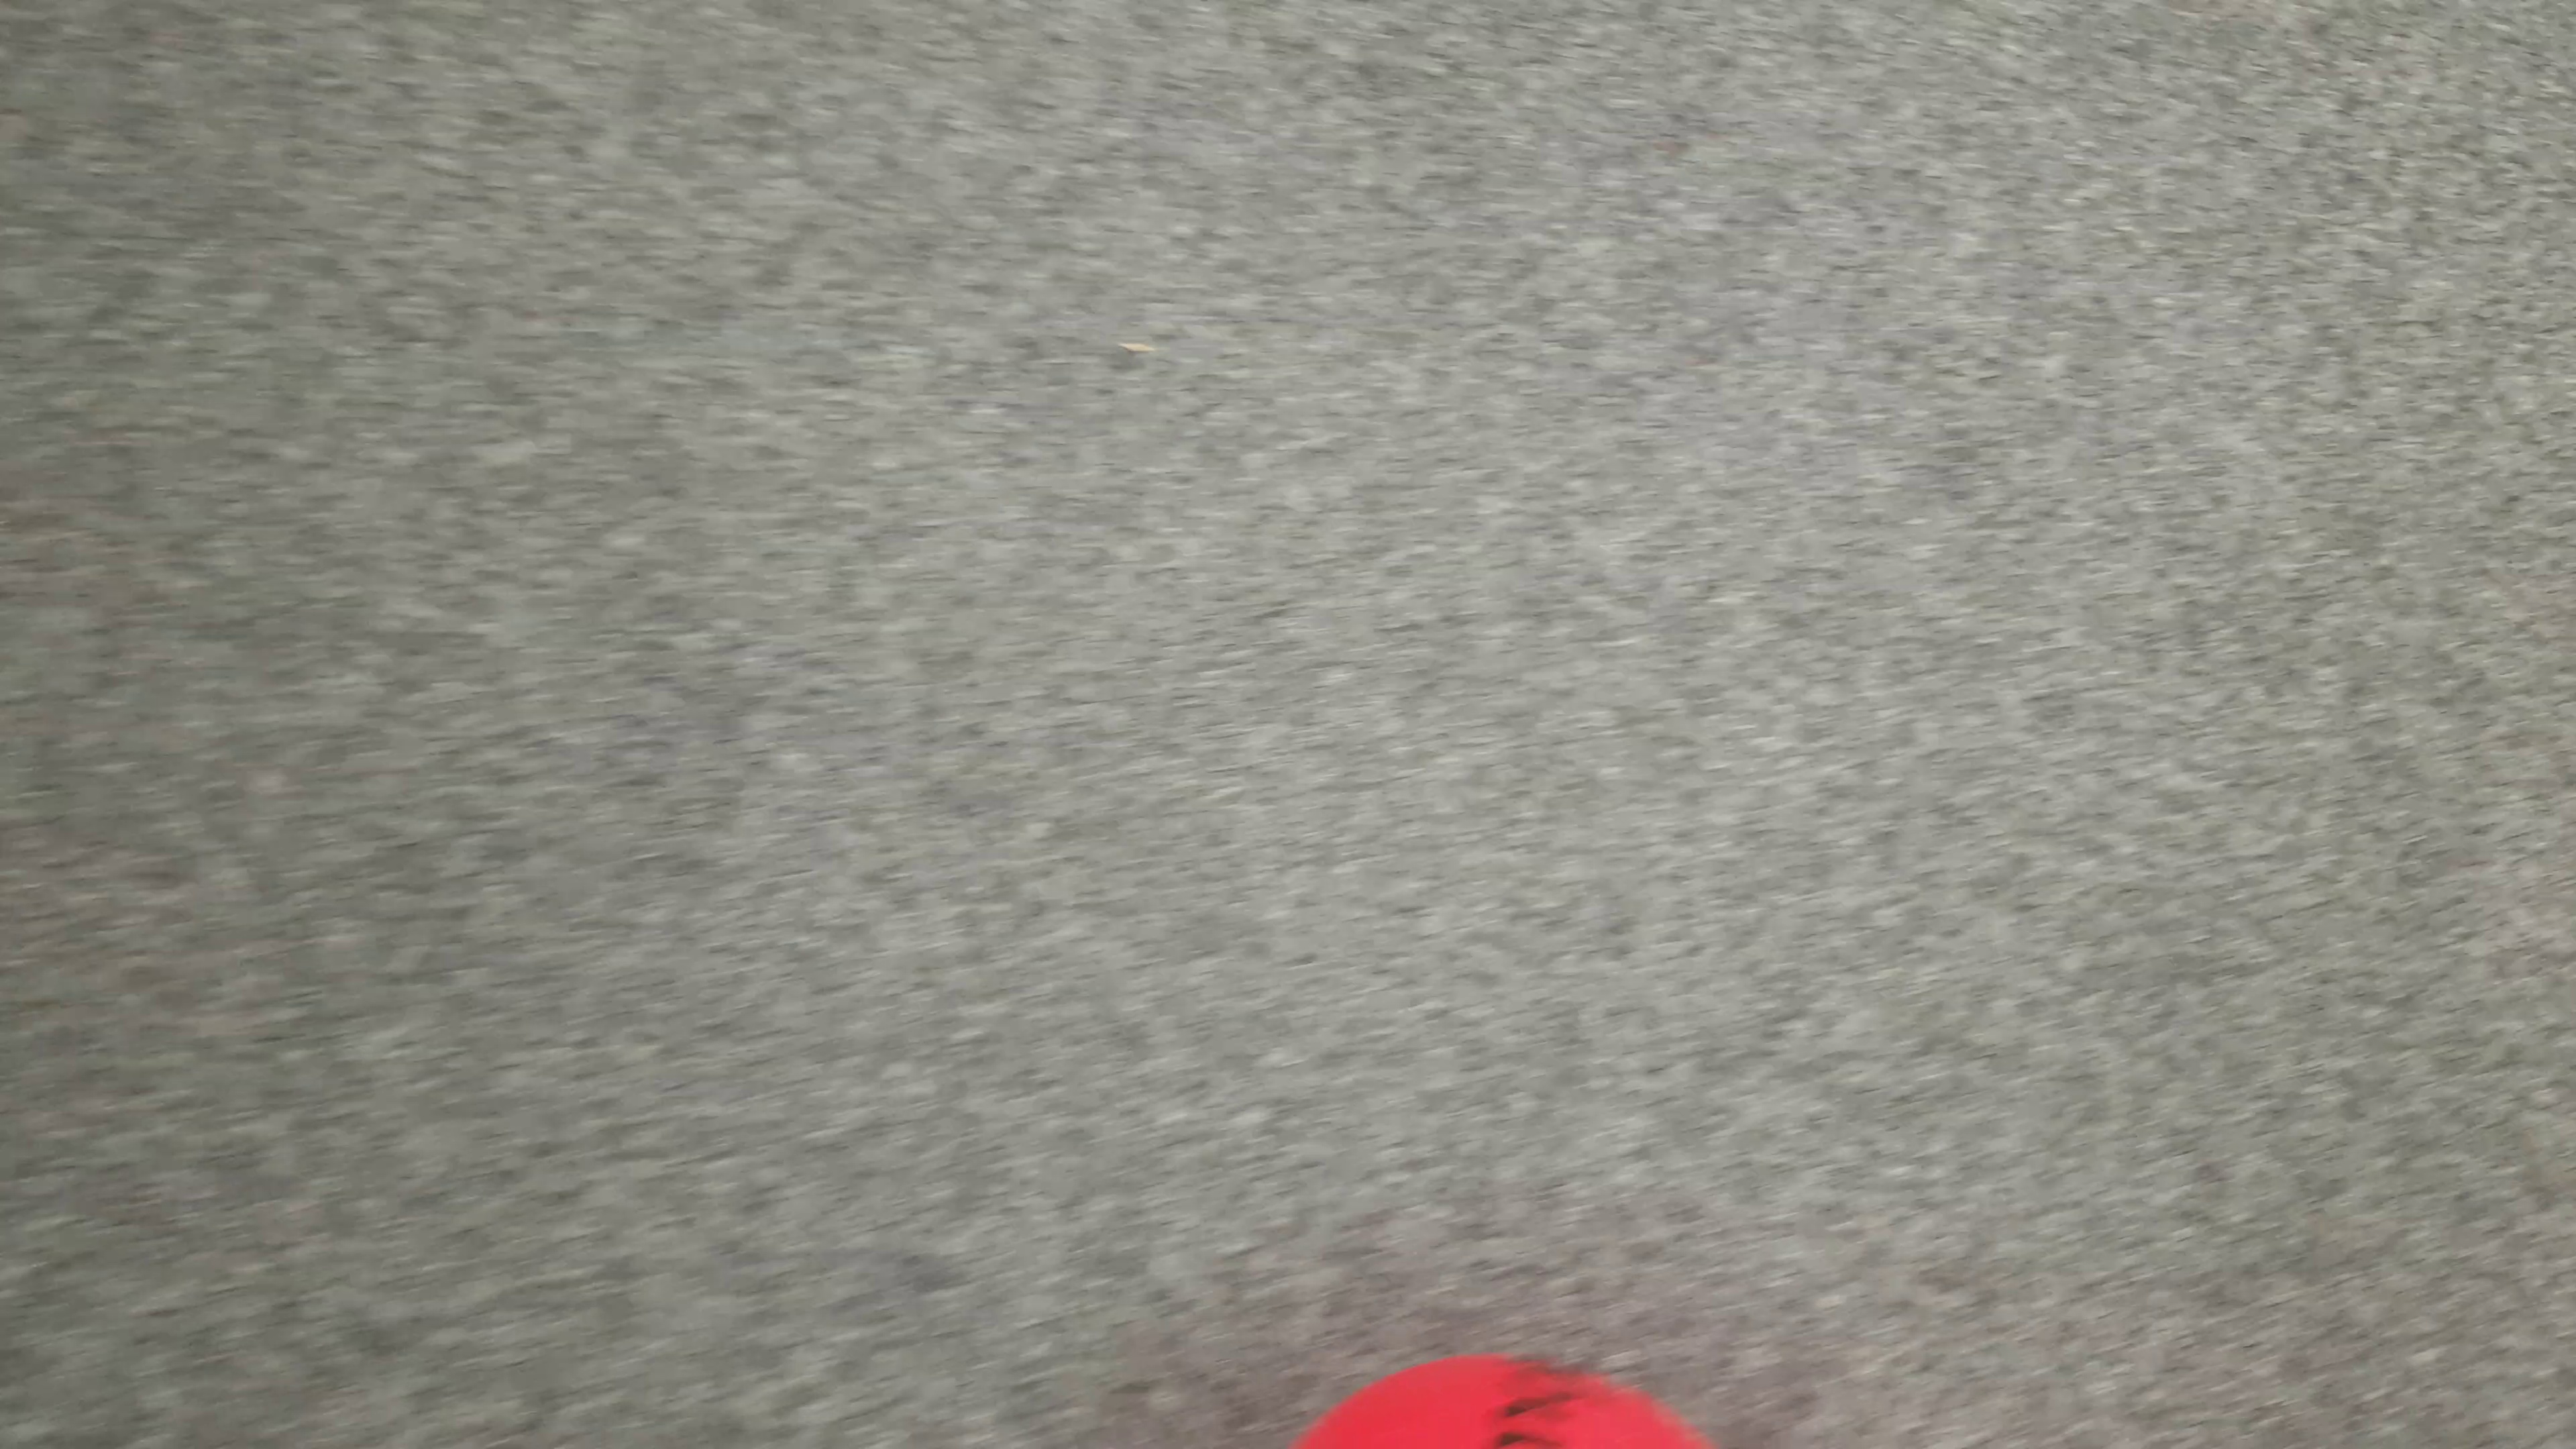kick: (1265, 1355, 1716, 1449)
